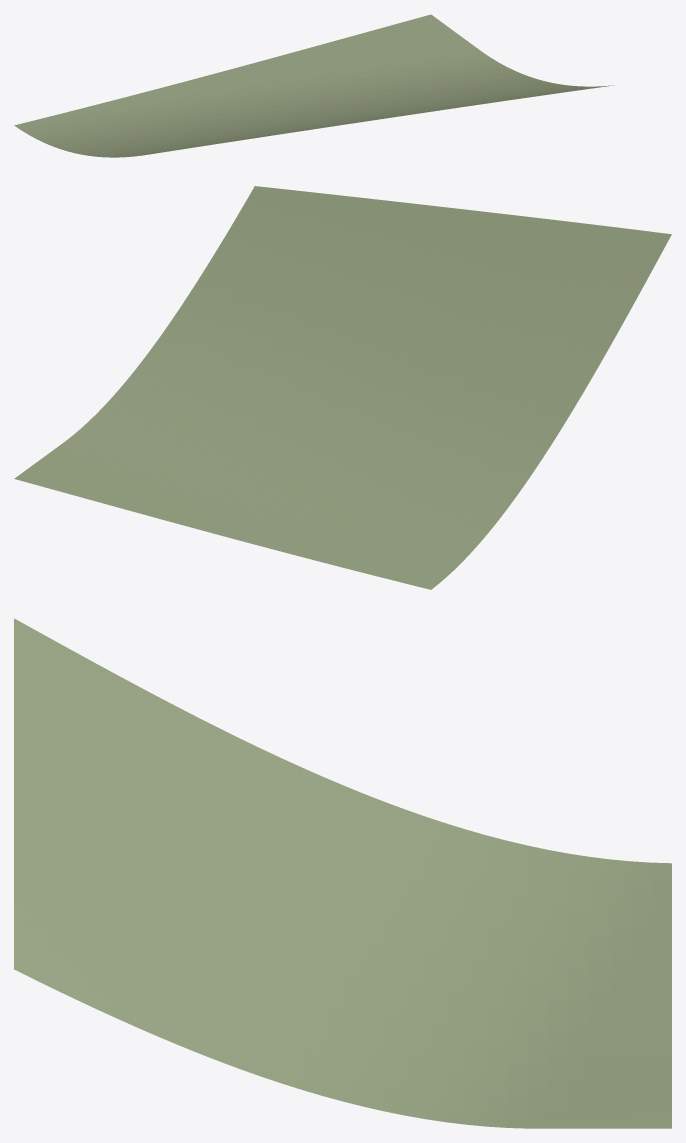
Rendered from expanse-20-1.glb.
3 renders of one model, top to bottom at view 1: azimuth 30°, elevation 25°; view 2: azimuth 150°, elevation 25°; view 3: azimuth 270°, elevation 25°, orthographic. The views are drawn at different scales.
Parts seen in each view (by area): view 1: expanse-20-1; view 2: expanse-20-1; view 3: expanse-20-1.
Part boxes in pixels (x1,y1,x2,y2): expanse-20-1: (14,14,613,157); expanse-20-1: (14,186,671,589); expanse-20-1: (14,618,671,1128).
Size of the model in its own units: 256 by 105 by 256.
